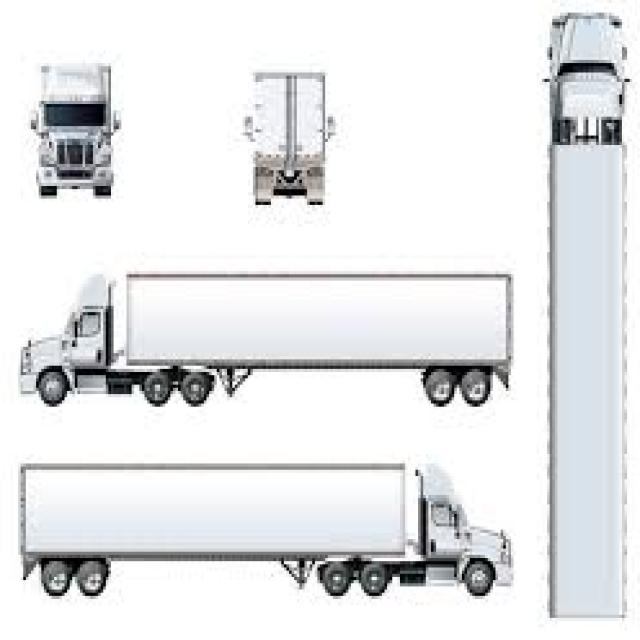truck: (17, 457, 518, 604), (17, 266, 517, 406), (546, 10, 631, 622), (34, 63, 120, 203), (251, 69, 332, 207)
